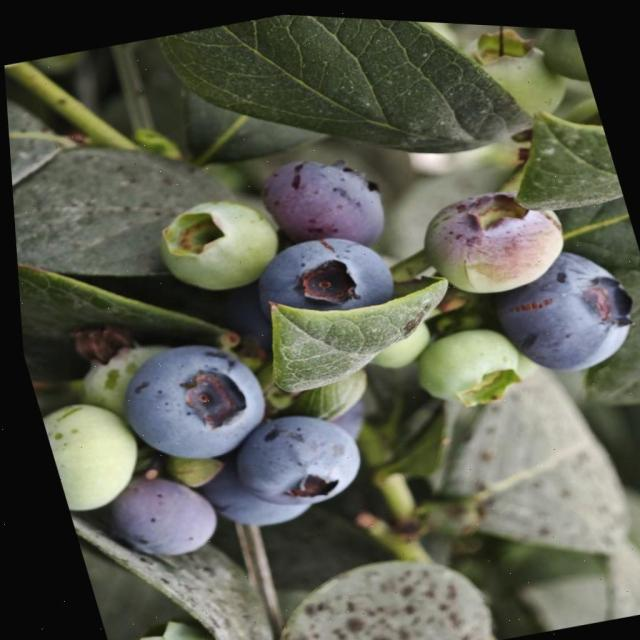RipeBlueBerry: (106, 327, 273, 472), (487, 257, 640, 382), (214, 398, 365, 520), (254, 141, 391, 257)
Semi-RipeBlueBerry: (412, 168, 578, 304)
UnripeBlueBerry: (144, 185, 284, 301), (402, 313, 527, 415)
